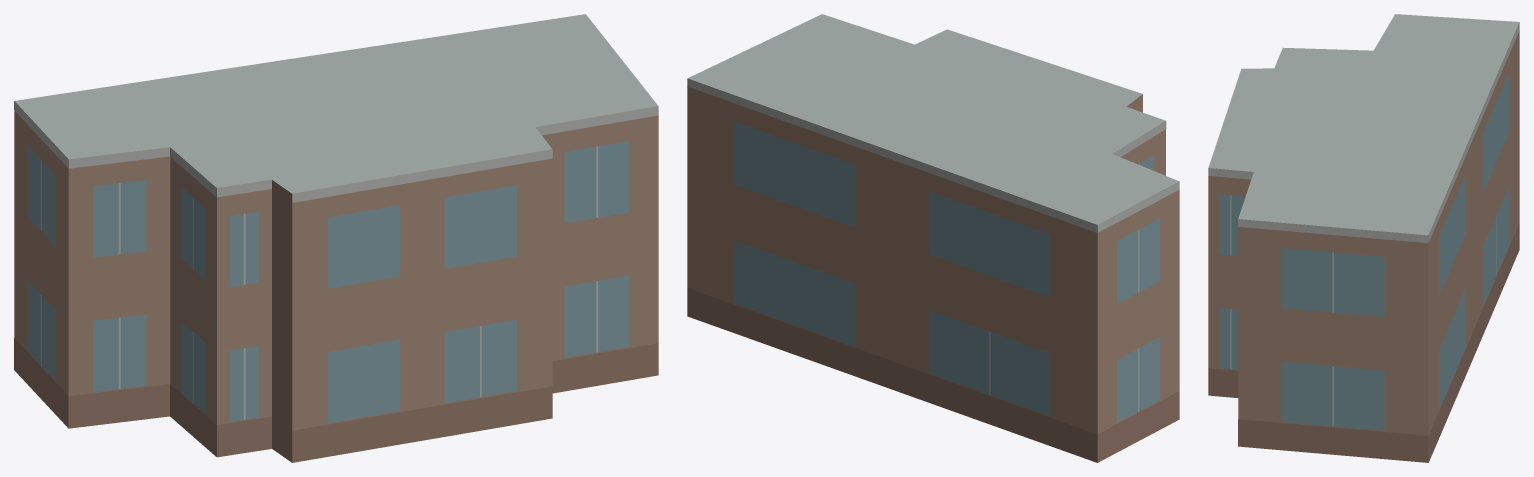
Rendered from survey-upis-32496131.glb.
3 views of the same model, side by side, from view 1: azimuth 30°, elevation 25°; view 2: azimuth 150°, elevation 25°; view 3: azimuth 270°, elevation 25° (orthographic). The views are drawn at different scales.
Visible parts, largest first — view 1: survey-upis-32496131.tmp; view 2: survey-upis-32496131.tmp; view 3: survey-upis-32496131.tmp.
Boxes of the visible parts, <box> form: survey-upis-32496131.tmp: <box>14,14,658,462</box>; survey-upis-32496131.tmp: <box>687,14,1179,462</box>; survey-upis-32496131.tmp: <box>1208,14,1519,462</box>.
Size of the model in its own units: 14.83 by 7.1 by 8.82.
